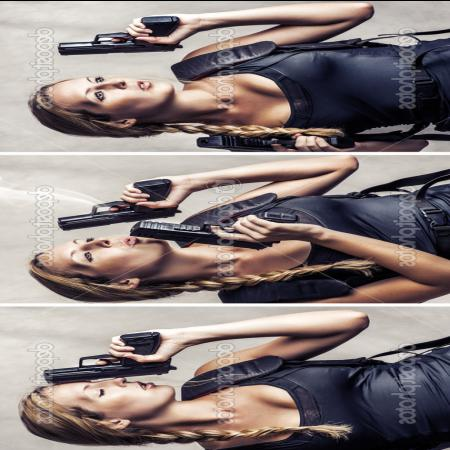Pistol: (123, 204, 300, 258), (50, 170, 176, 236), (47, 5, 198, 59), (47, 328, 173, 381), (176, 128, 326, 155)
